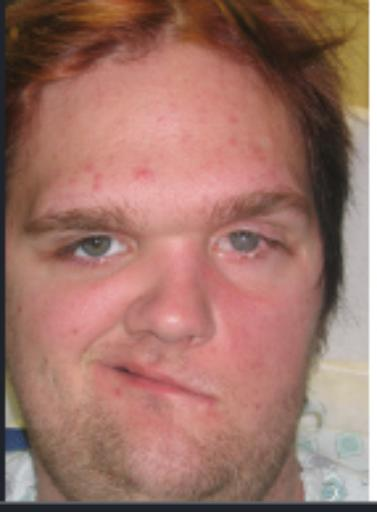left_eye: (219, 231, 290, 264)
left_lip_corner: (201, 386, 226, 409)
right_eye: (47, 232, 133, 270)
right_lip_corner: (90, 353, 122, 377)
